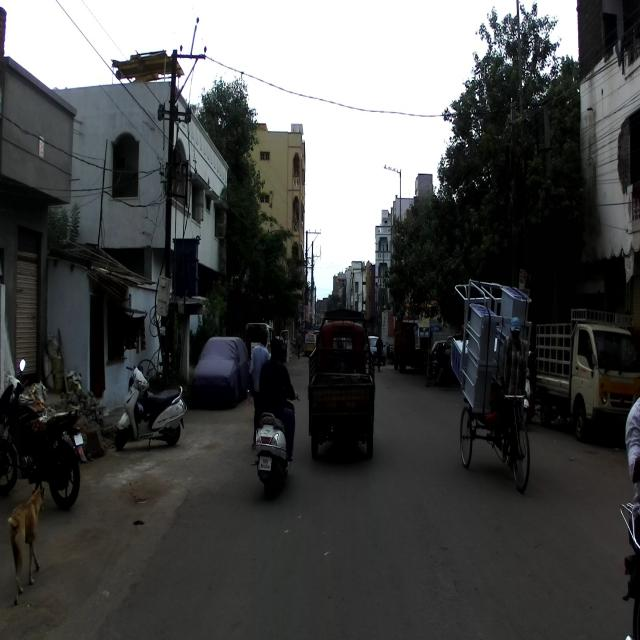Car: (190, 336, 250, 408)
autorickshaw: (306, 307, 376, 462)
motorcycle_bajaj: (0, 355, 89, 510)
scooter: (115, 364, 187, 451), (249, 396, 300, 499)
